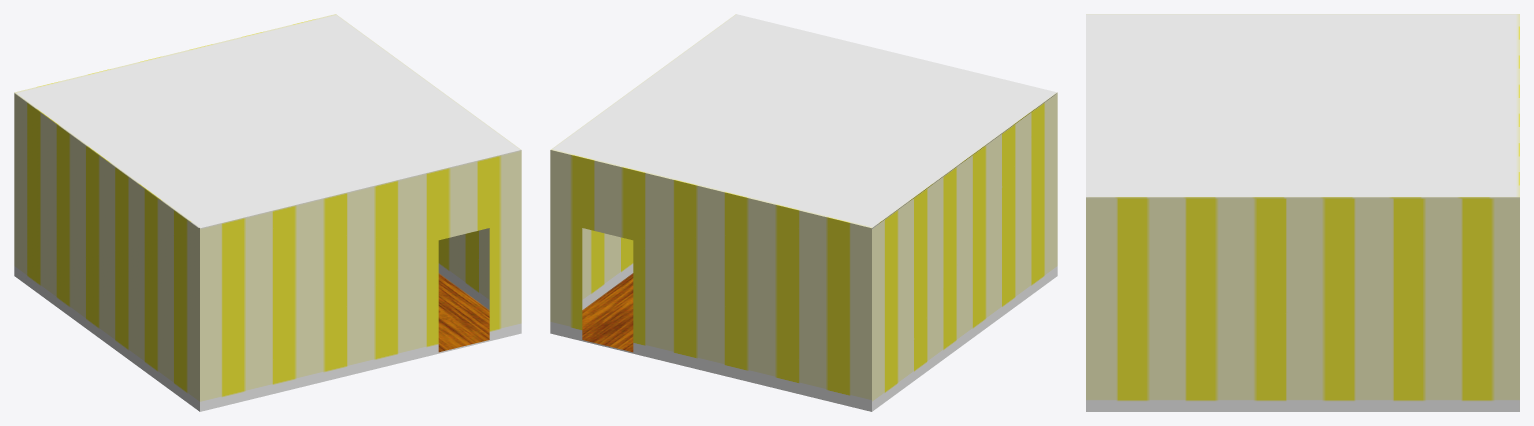
Rendered from Room01.fbx.
The picture shows the model from 3 angles, left to right: view 1: azimuth 30°, elevation 25°; view 2: azimuth 150°, elevation 25°; view 3: azimuth 270°, elevation 25°; orthographic projection. The views are drawn at different scales.
Parts seen in each view (by area): view 1: pCube31; view 2: pCube31; view 3: pCube31.
Part boxes in pixels (x1,y1,x2,y2): pCube31: [14, 14, 521, 411]; pCube31: [550, 14, 1057, 411]; pCube31: [1086, 14, 1519, 411].
Bounding box in the file's own units: 649 × 354 × 649.
Materials: 1 (1 with a texture image).
